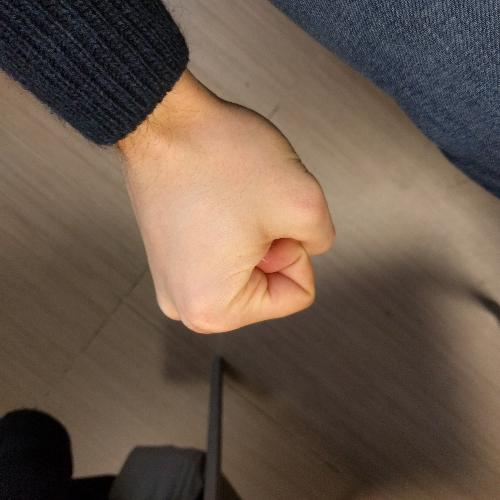rock: (119, 76, 342, 338)
